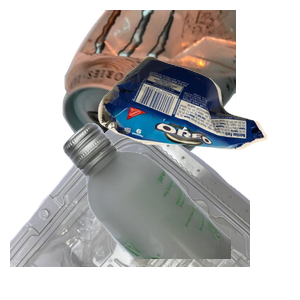glass: (60, 120, 300, 300)
metal: (60, 10, 300, 175)
plastic: (10, 120, 250, 300)
trash: (95, 53, 300, 195)
